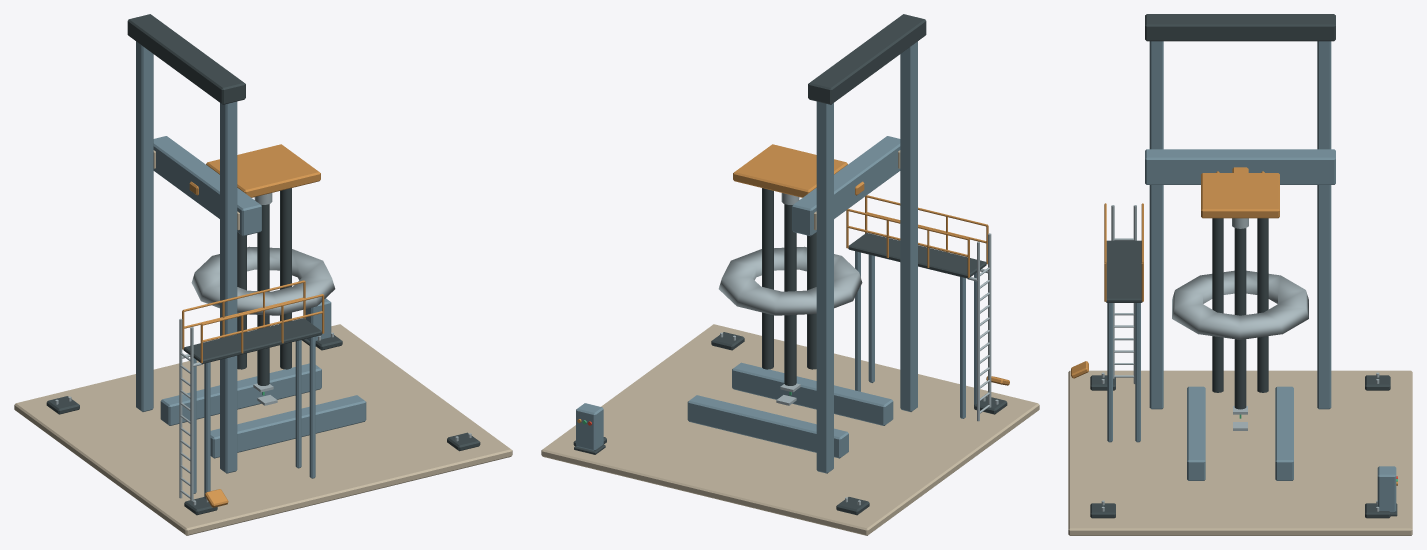
3 renders of one model, left to right at view 1: azimuth 30°, elevation 25°; view 2: azimuth 150°, elevation 25°; view 3: azimuth 270°, elevation 25°, orthographic.
Visible parts, largest first — view 1: foundation, electrode_mast_-1.8, electrode_mast_1.8, refining_roof, mast_bridge, ladle_cradle_0.95, electrode_slide_carriage, ladle_cradle_-0.95, electrode_carrier, lf_service_deck, graphite_electrode_1, graphite_electrode_0 (+7 smaller); view 2: foundation, electrode_mast_-1.8, electrode_mast_1.8, refining_roof, ladle_cradle_-0.95, mast_bridge, ladle_cradle_0.95, electrode_slide_carriage, electrode_carrier, lf_service_deck, graphite_electrode_2, graphite_electrode_0 (+6 smaller); view 3: foundation, refining_roof, electrode_slide_carriage, mast_bridge, electrode_mast_-1.8, electrode_mast_1.8, electrode_carrier, lf_service_deck, graphite_electrode_0, graphite_electrode_1, graphite_electrode_2, ladle_cradle_-0.95 (+4 smaller).
Boxes of the visible parts, x1=… form: foundation: x1=14, y1=324, x2=512, y2=535; electrode_mast_-1.8: x1=136, y1=41, x2=153, y2=411; electrode_mast_1.8: x1=220, y1=101, x2=237, y2=473; refining_roof: x1=191, y1=246, x2=335, y2=315; mast_bridge: x1=127, y1=14, x2=245, y2=104; ladle_cradle_0.95: x1=210, y1=395, x2=366, y2=458; electrode_slide_carriage: x1=153, y1=136, x2=261, y2=236; ladle_cradle_-0.95: x1=160, y1=363, x2=321, y2=425; electrode_carrier: x1=206, y1=144, x2=320, y2=197; lf_service_deck: x1=183, y1=318, x2=322, y2=363; graphite_electrode_1: x1=257, y1=204, x2=269, y2=385; graphite_electrode_0: x1=280, y1=188, x2=291, y2=369; foundation: x1=541, y1=324, x2=1039, y2=535; electrode_mast_-1.8: x1=816, y1=101, x2=833, y2=473; electrode_mast_1.8: x1=900, y1=41, x2=917, y2=411; refining_roof: x1=718, y1=246, x2=862, y2=315; ladle_cradle_-0.95: x1=687, y1=395, x2=848, y2=458; mast_bridge: x1=808, y1=14, x2=926, y2=104; ladle_cradle_0.95: x1=732, y1=362, x2=893, y2=425; electrode_slide_carriage: x1=792, y1=136, x2=900, y2=236; electrode_carrier: x1=733, y1=144, x2=847, y2=197; lf_service_deck: x1=848, y1=232, x2=986, y2=278; graphite_electrode_2: x1=784, y1=204, x2=796, y2=385; graphite_electrode_0: x1=762, y1=188, x2=773, y2=369; foundation: x1=1068, y1=370, x2=1412, y2=535; refining_roof: x1=1172, y1=270, x2=1308, y2=339; electrode_slide_carriage: x1=1145, y1=149, x2=1335, y2=184; mast_bridge: x1=1145, y1=14, x2=1335, y2=41; electrode_mast_-1.8: x1=1317, y1=41, x2=1331, y2=409; electrode_mast_1.8: x1=1149, y1=41, x2=1163, y2=409; electrode_carrier: x1=1201, y1=173, x2=1279, y2=218; lf_service_deck: x1=1106, y1=240, x2=1142, y2=302; graphite_electrode_0: x1=1234, y1=228, x2=1246, y2=409; graphite_electrode_1: x1=1212, y1=218, x2=1223, y2=392; graphite_electrode_2: x1=1257, y1=218, x2=1268, y2=392; ladle_cradle_-0.95: x1=1275, y1=386, x2=1293, y2=480.
Size of the model in its own units: 8.1 by 9.53 by 7.4.
